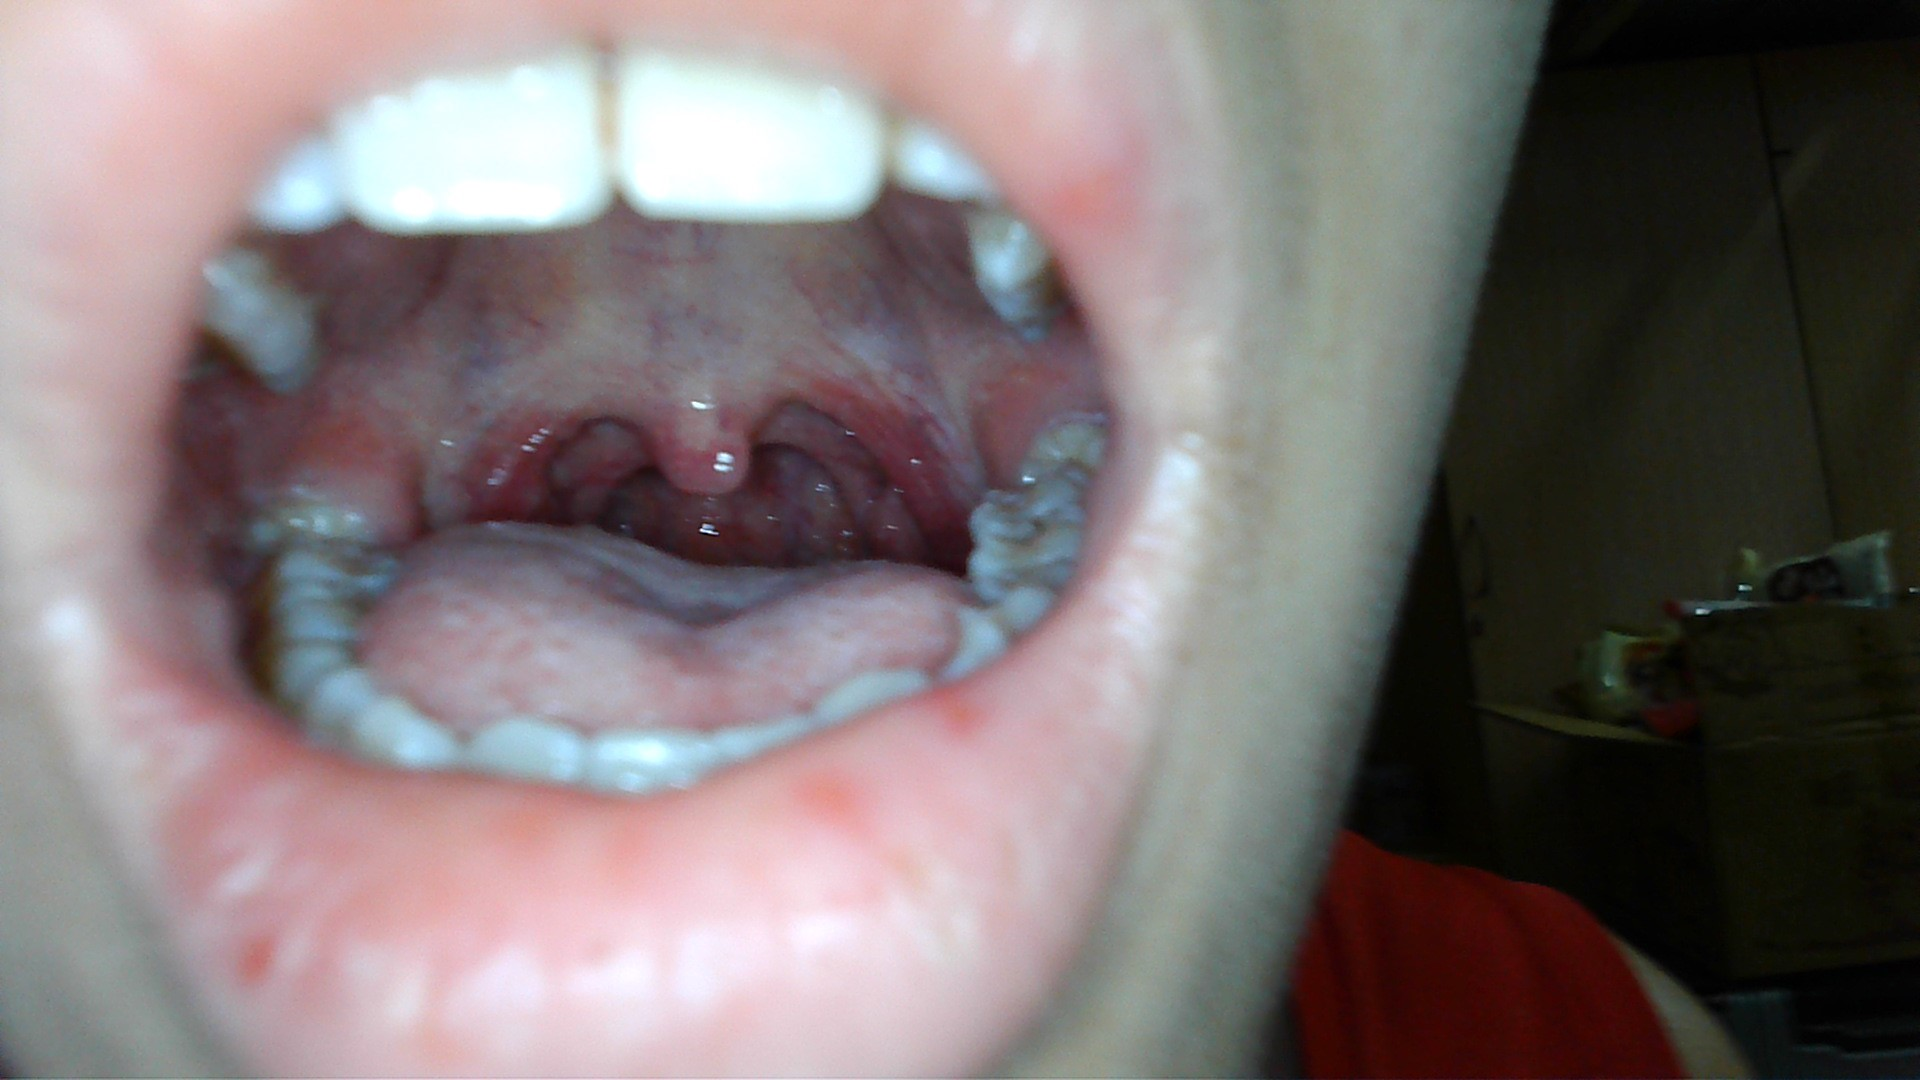throat: (806, 368, 949, 553), (430, 368, 570, 508)
